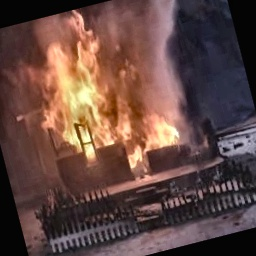fire: (16, 0, 187, 194)
